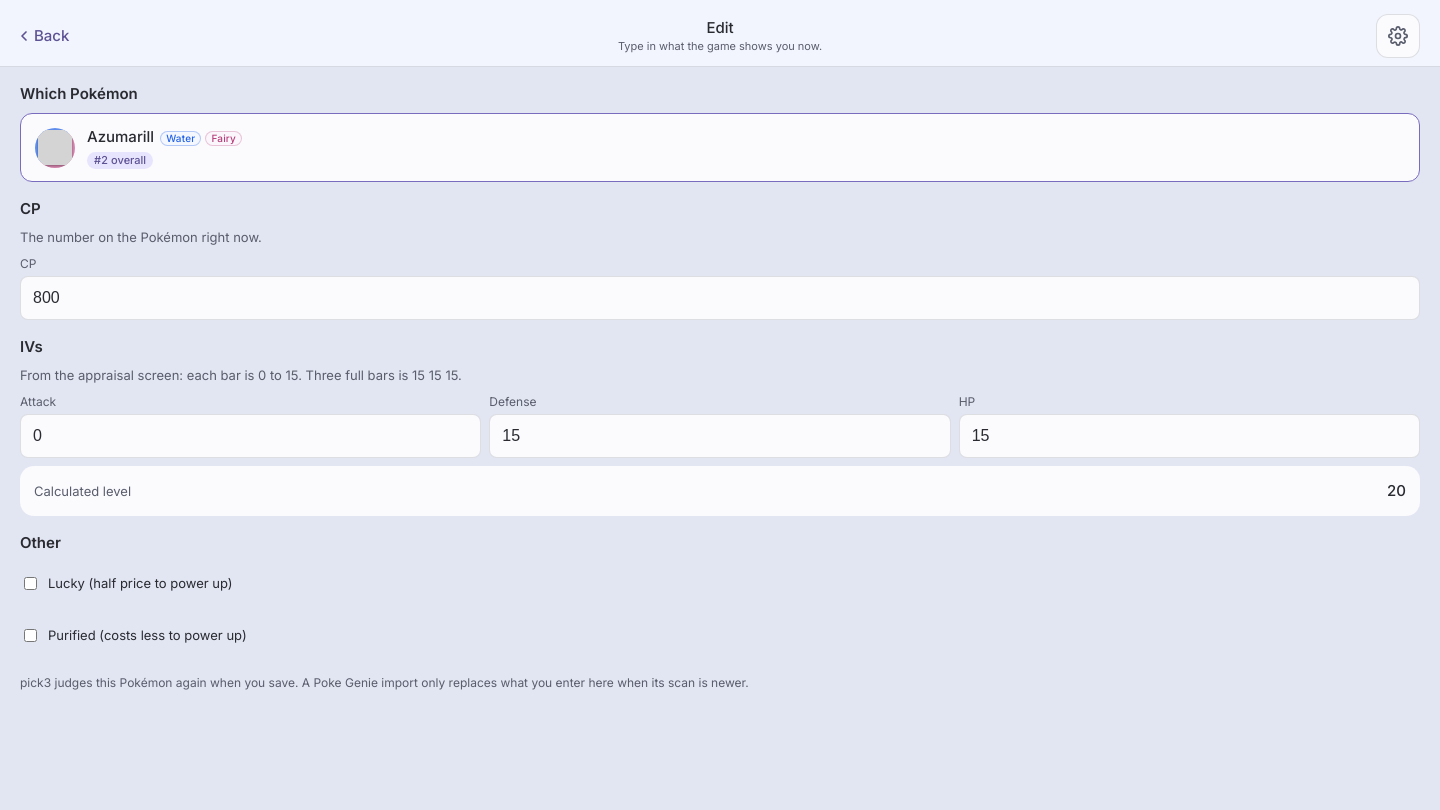
Edit › a change brings up the save bar; Discard puts the stored values back and it goes
Step 1. Replace the text in the number field labelled "CP" with "1450" → {"x": 720, "y": 298}, box [20, 276, 1420, 320]
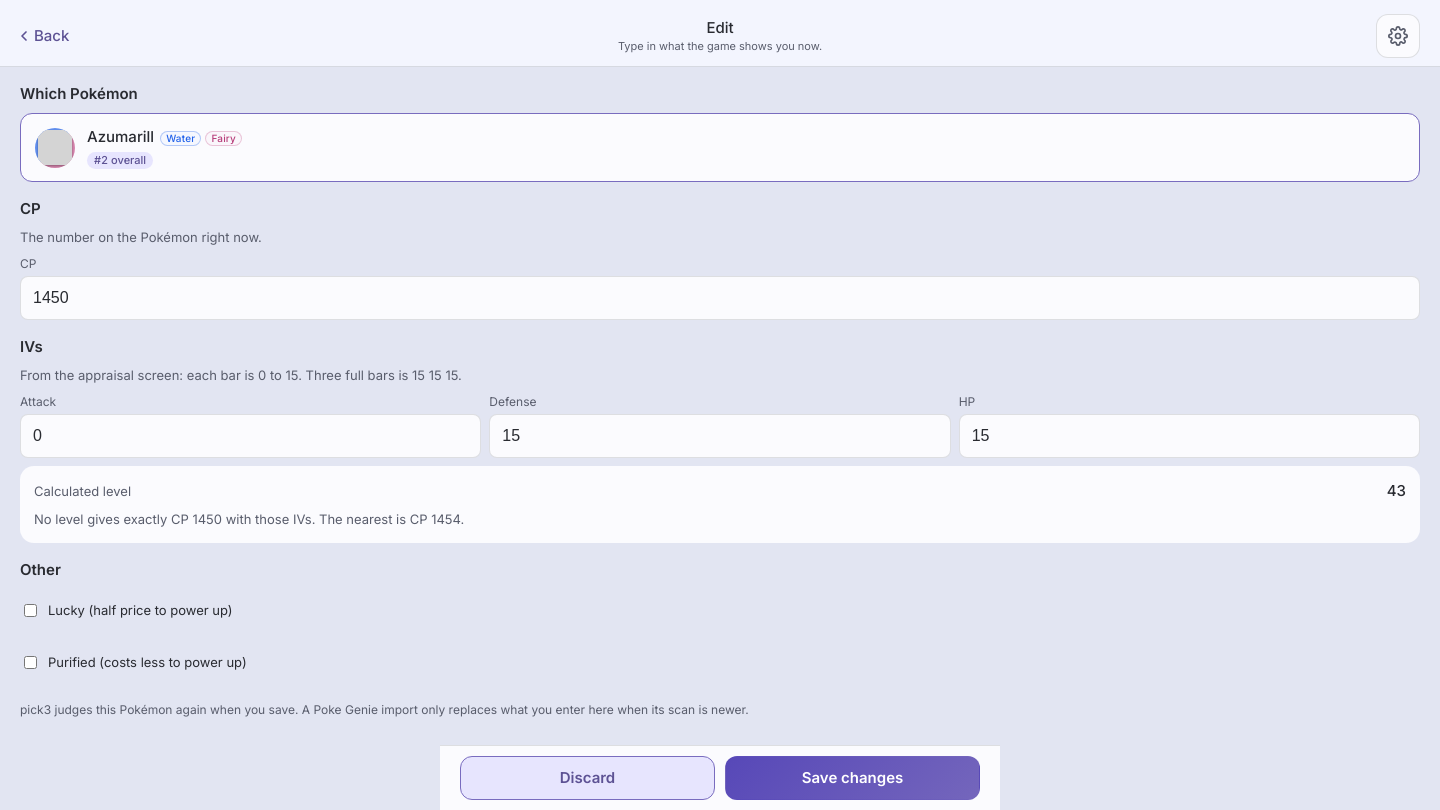
Expected: the button "Save changes" is enabled, [725, 756, 980, 800]
Step 2. Click the button "Discard" → {"x": 588, "y": 778}, box [460, 756, 715, 800]
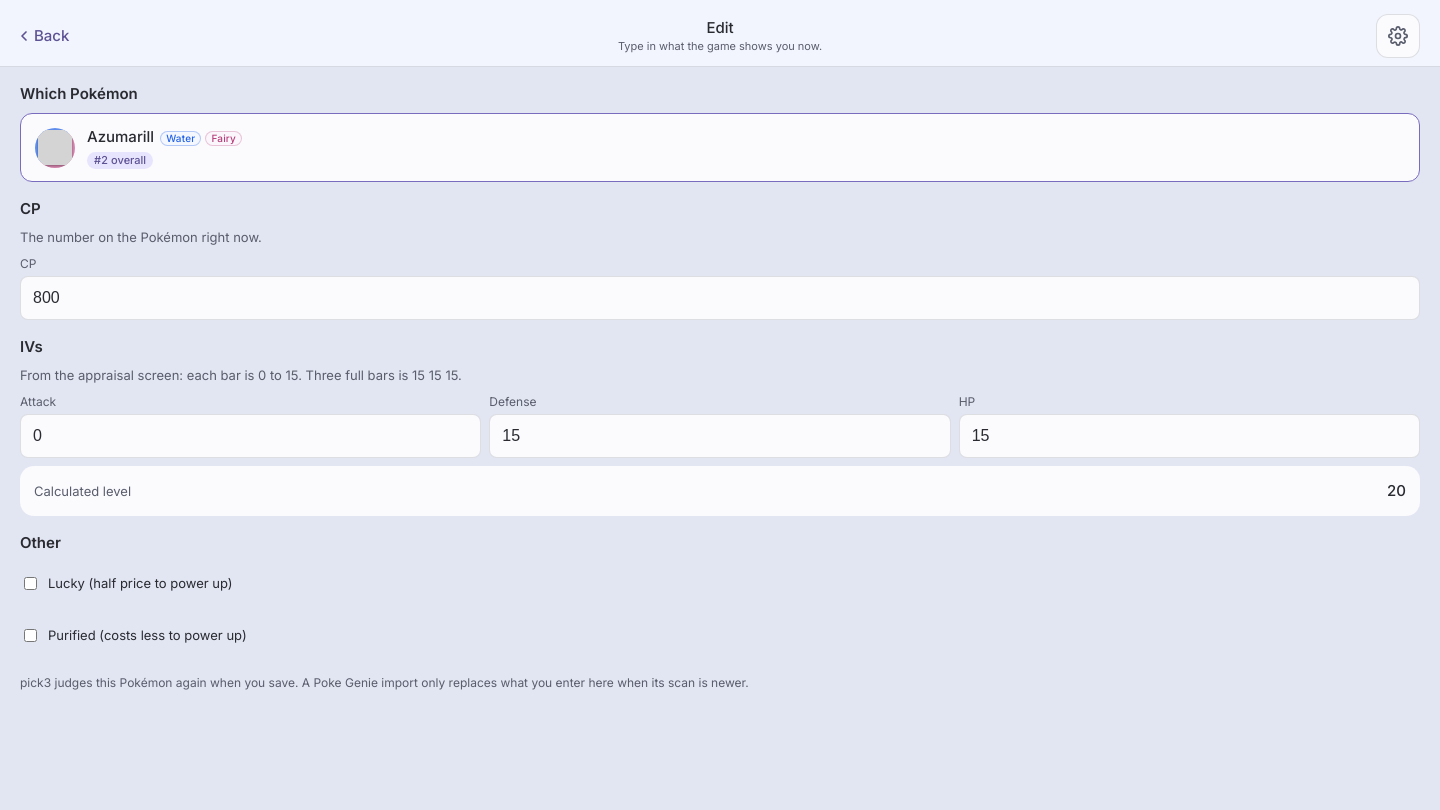
Expected: the number field labelled "CP" holds "800"
Step 3. Replace the text in the number field labelled "CP" with "1450" → {"x": 720, "y": 298}, box [20, 276, 1420, 320]
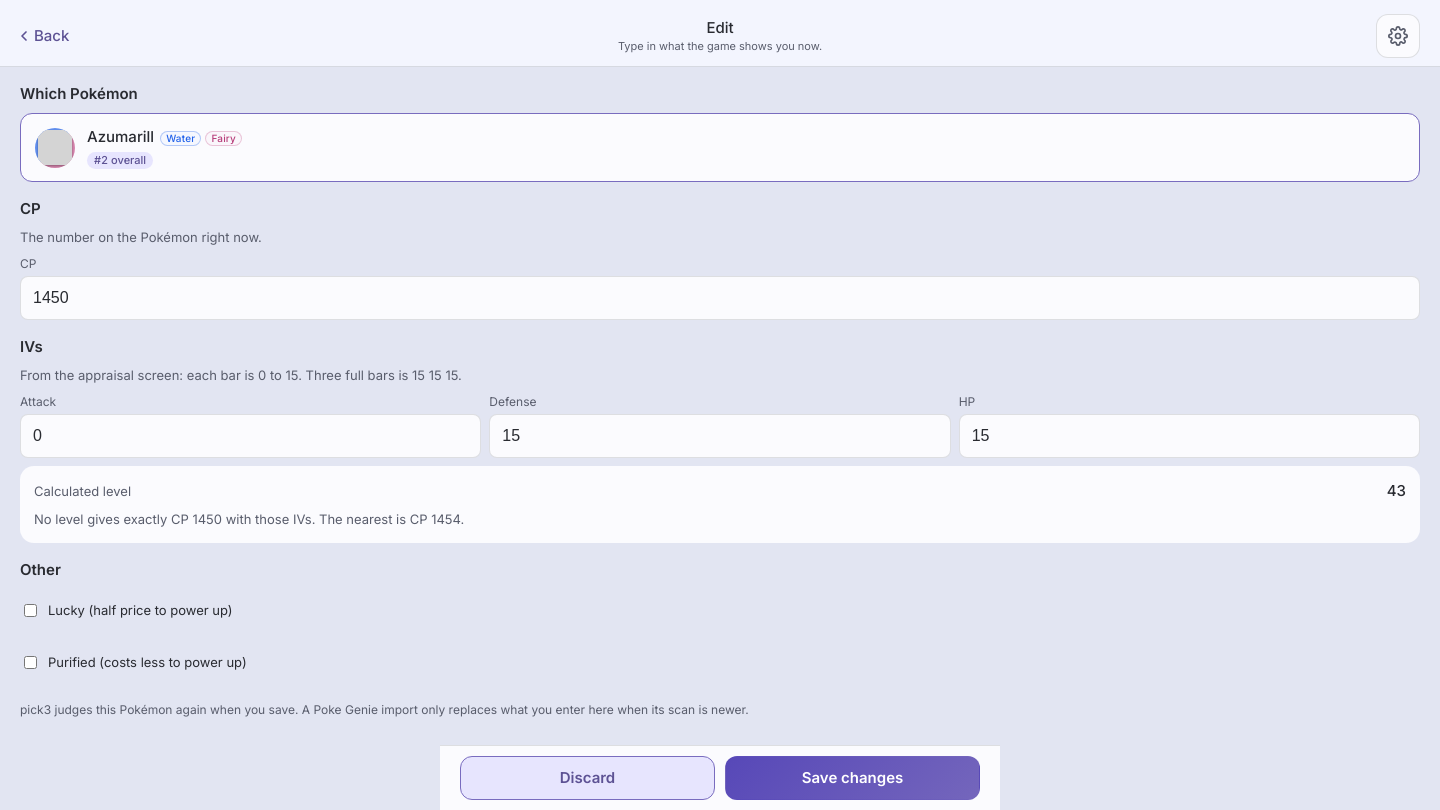
Step 4. Replace the text in the number field labelled "CP" with "800" → {"x": 720, "y": 298}, box [20, 276, 1420, 320]
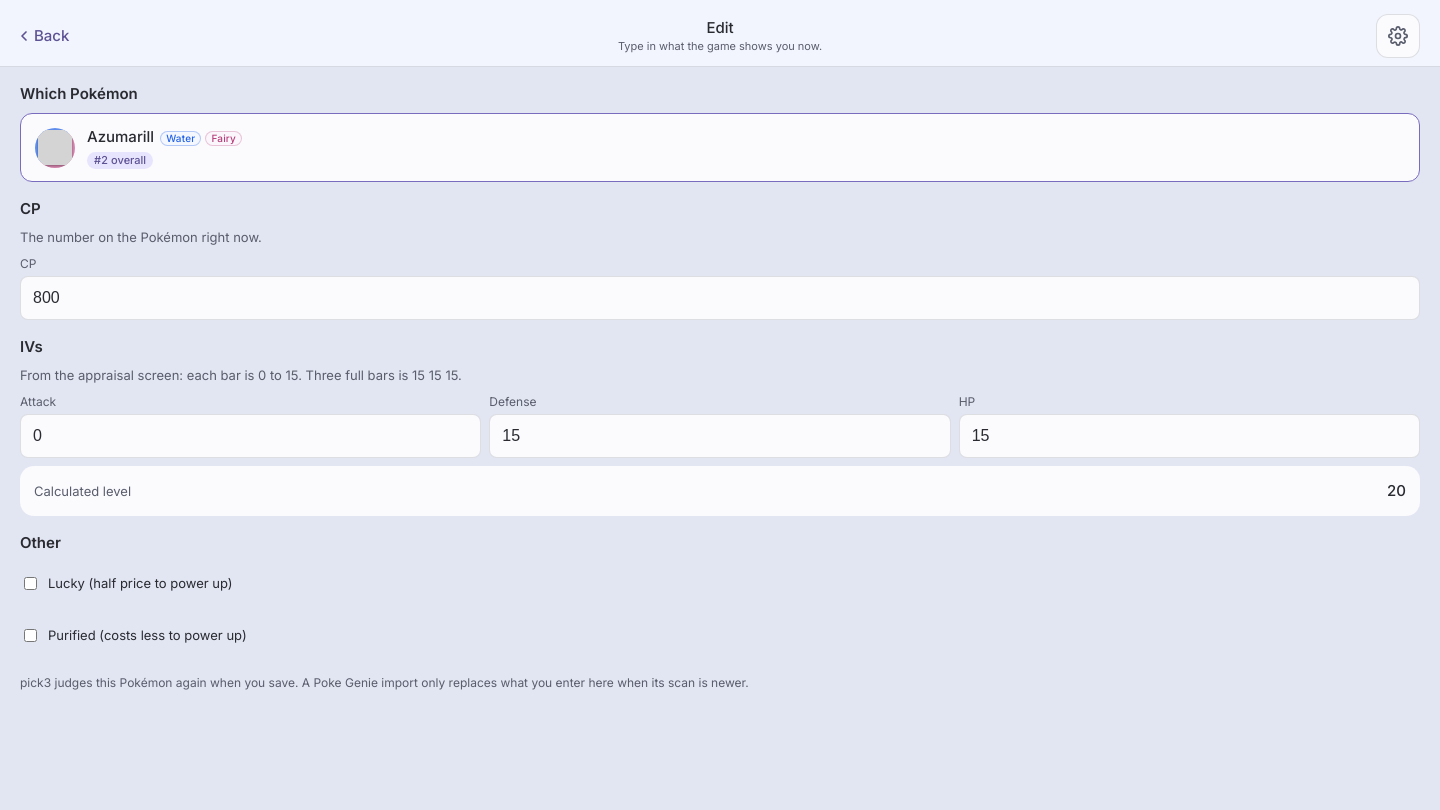
Expected: the button "Save changes" is gone
